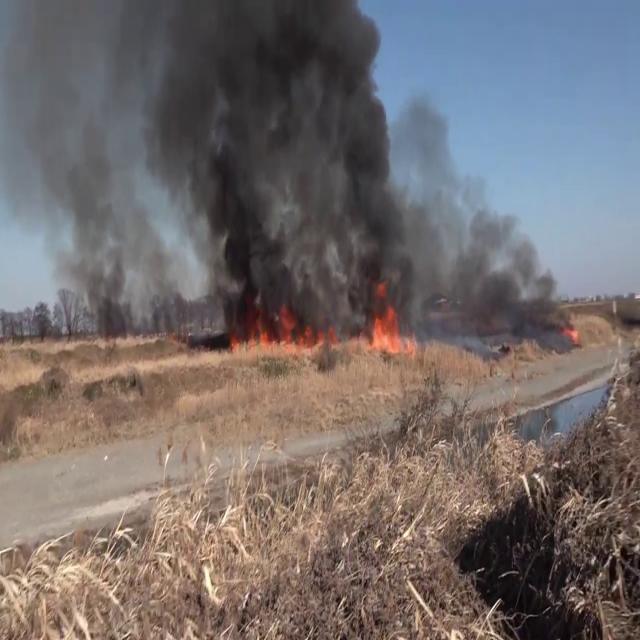Fire: (226, 294, 332, 358), (364, 285, 412, 359)
Smoke: (0, 0, 460, 324), (146, 0, 442, 323), (0, 0, 169, 328), (428, 199, 576, 339)
